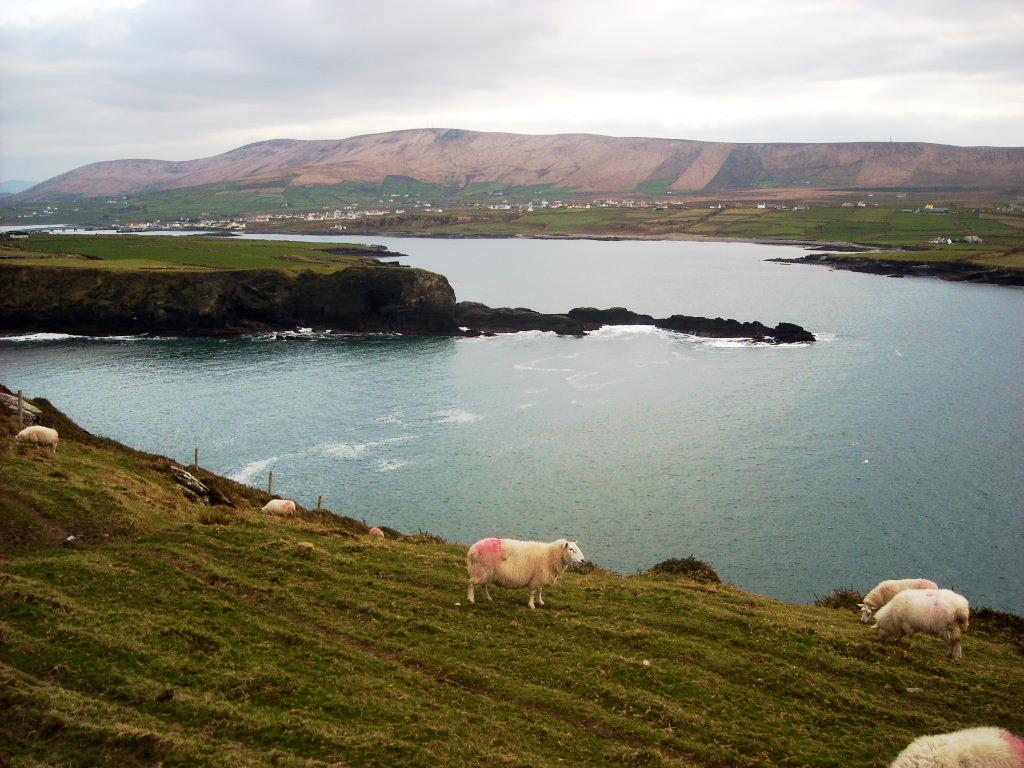Sheep: (467, 537, 584, 607), (875, 590, 968, 658), (889, 731, 1023, 767), (855, 577, 934, 618), (19, 427, 60, 453), (262, 495, 299, 521)
